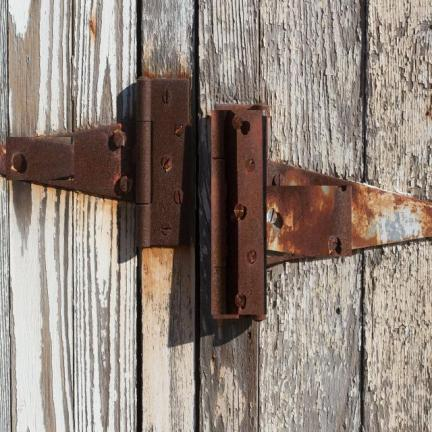karat: (211, 104, 431, 320)
